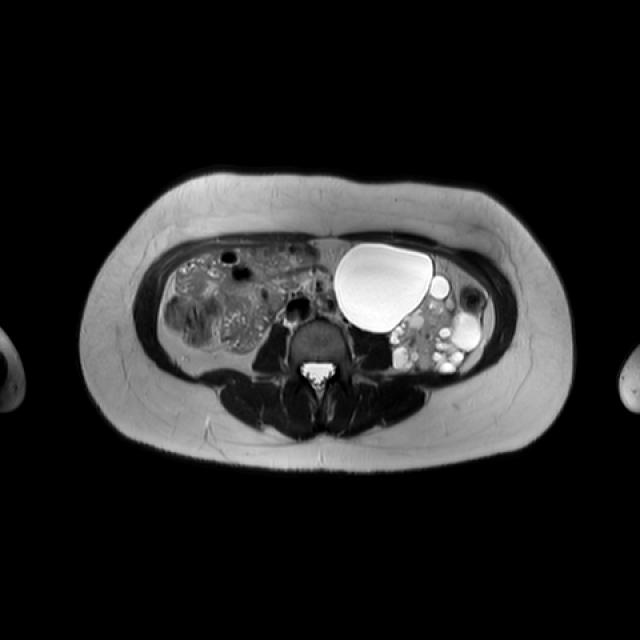sol: (335, 245, 484, 373)
